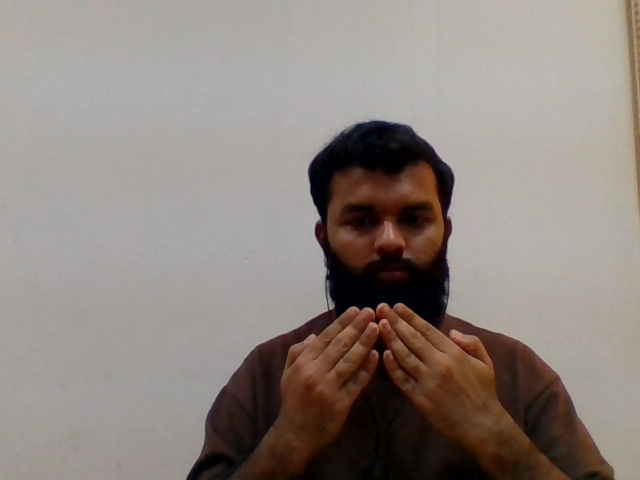Thank You: (265, 231, 553, 442)
